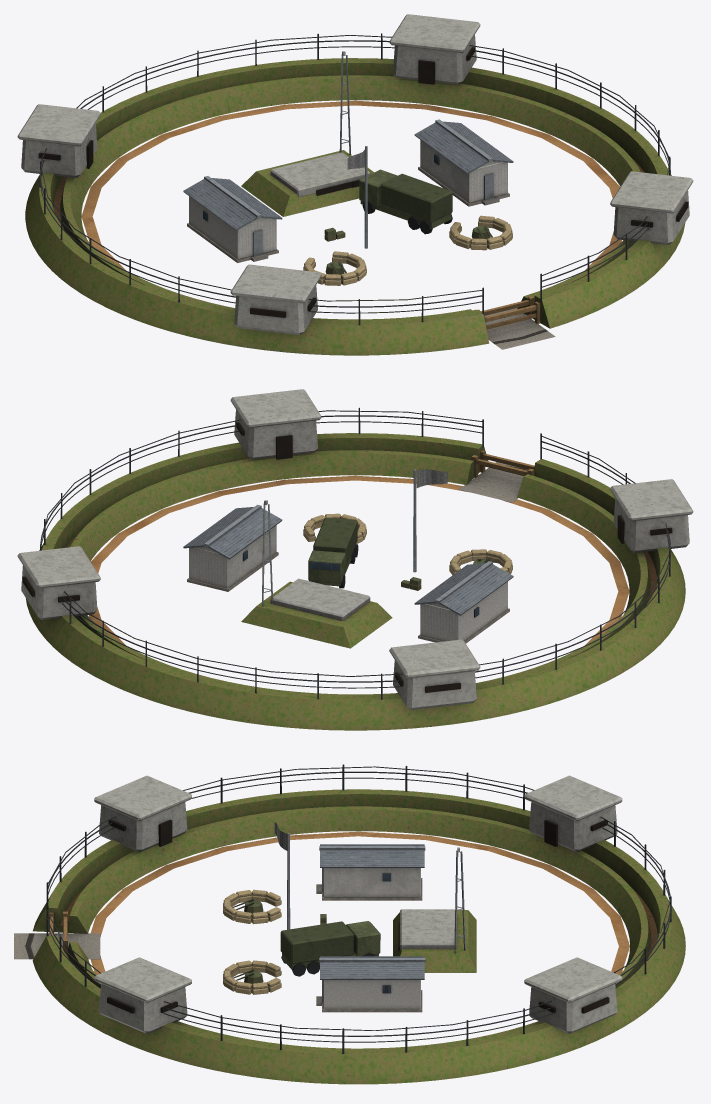
The model's file is fort-modern.glb.
3 renders of one model, top to bottom at view 1: azimuth 30°, elevation 25°; view 2: azimuth 150°, elevation 25°; view 3: azimuth 270°, elevation 25°, orthographic.
Parts seen in each view (by area): view 1: LOD0; view 2: LOD0; view 3: LOD0.
Part boxes in pixels (x1,y1,x2,y2): LOD0: [17, 14, 693, 355]; LOD0: [17, 389, 693, 730]; LOD0: [14, 764, 685, 1084].
Size of what is drawn, in the model's own units: 4.86 by 0.9299 by 4.9.
Materials: 3 (3 with a texture image).
